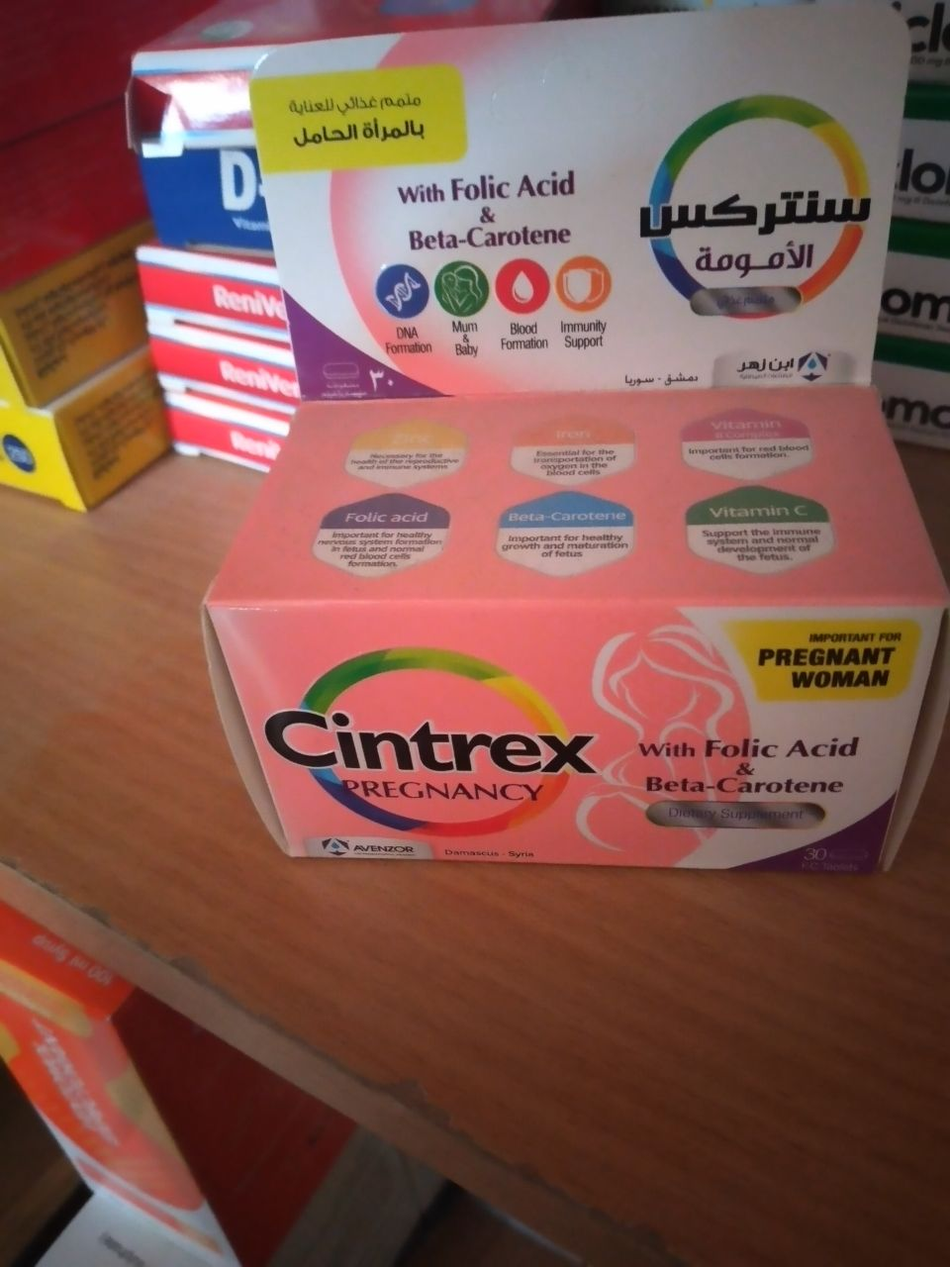Medicine: (214, 379, 950, 940), (247, 23, 887, 412)
